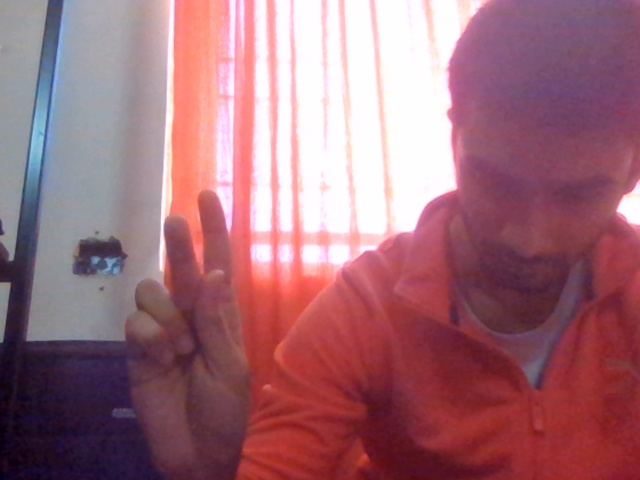K: (97, 185, 270, 480)
